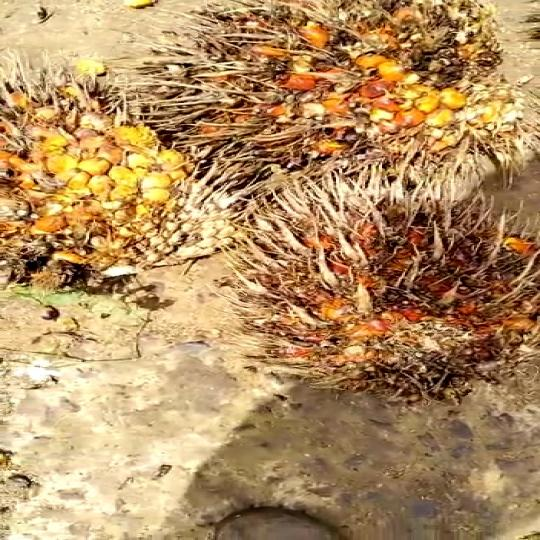terlalu masak: (128, 0, 532, 201), (219, 184, 536, 397)
